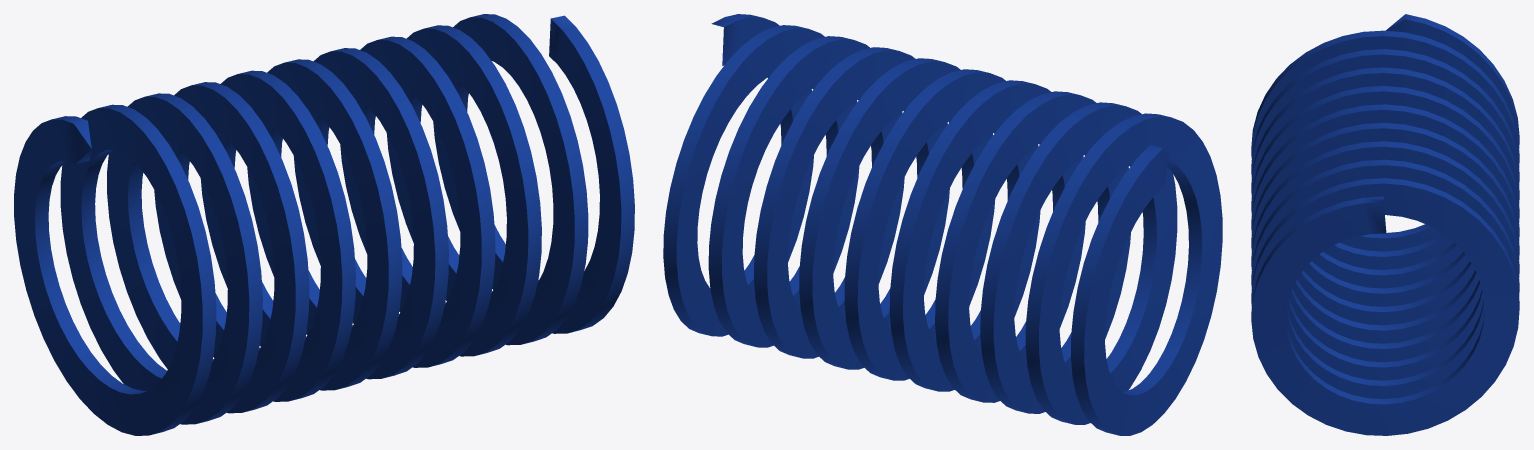
3 views of the same model, side by side, from view 1: azimuth 30°, elevation 25°; view 2: azimuth 150°, elevation 25°; view 3: azimuth 270°, elevation 25° (orthographic). The views are drawn at different scales.
Visible parts, largest first — view 1: coil-spring-biru; view 2: coil-spring-biru; view 3: coil-spring-biru.
Part boxes in pixels (x1,y1,x2,y2): coil-spring-biru: (14,14,634,435); coil-spring-biru: (663,14,1222,435); coil-spring-biru: (1251,14,1519,435).
Bounding box in the file's own units: 0.6673 × 0.3999 × 0.3999.
